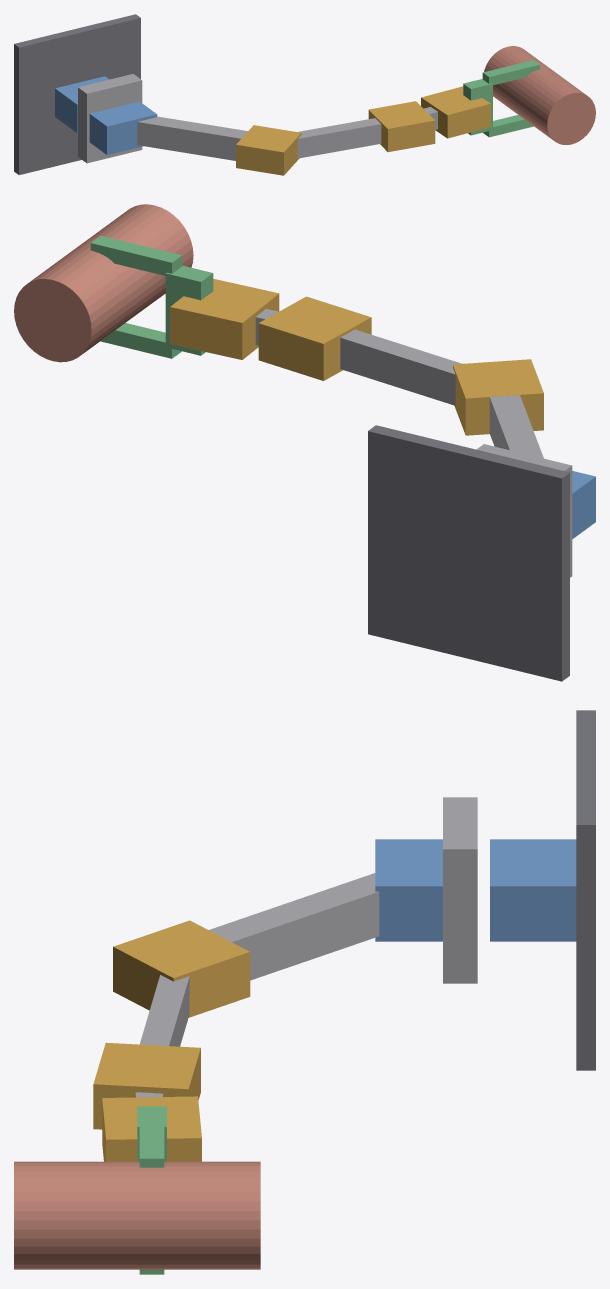
File: arm_can_final.glb
3 renders of one model, top to bottom at view 1: azimuth 30°, elevation 25°; view 2: azimuth 150°, elevation 25°; view 3: azimuth 270°, elevation 25°, orthographic. The views are drawn at different scales.
Visible parts, largest first — view 1: world; view 2: world; view 3: world.
Part boxes in pixels (box(x1,y1,x2,y2)): world: box(14, 14, 595, 175); world: box(14, 204, 595, 681); world: box(14, 710, 595, 1274).
Size of the model in its own units: 389 by 110 by 236.
